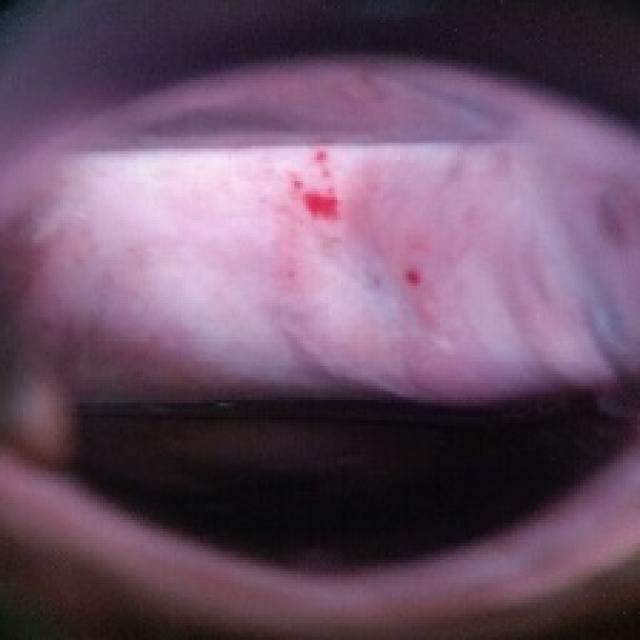type-3: (22, 110, 640, 593)
